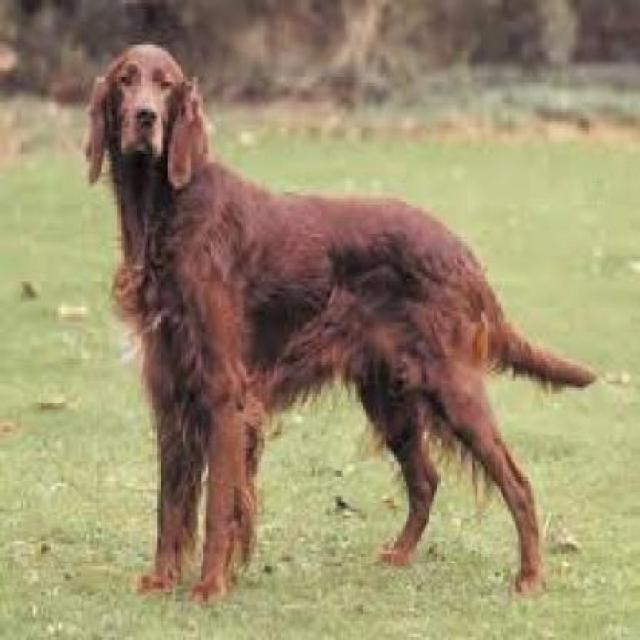animals: (57, 1, 604, 640)
